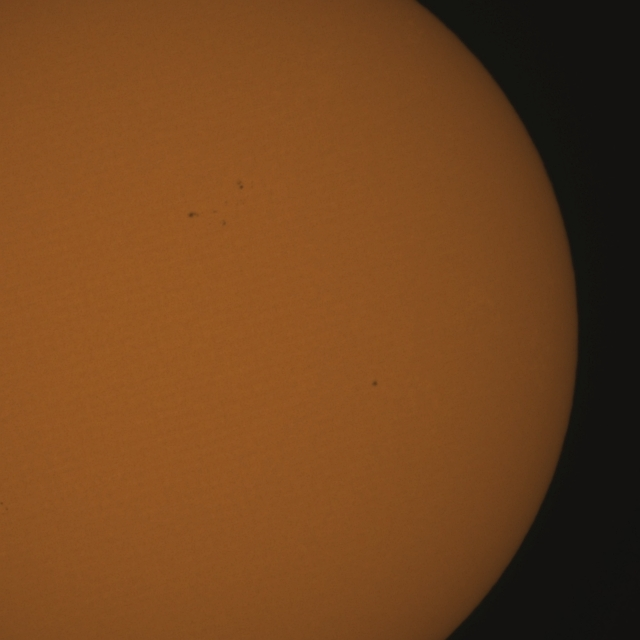sunspot: (0, 498, 9, 518), (187, 210, 202, 220), (236, 179, 244, 191), (371, 379, 379, 388), (220, 219, 227, 227), (212, 209, 218, 215)
